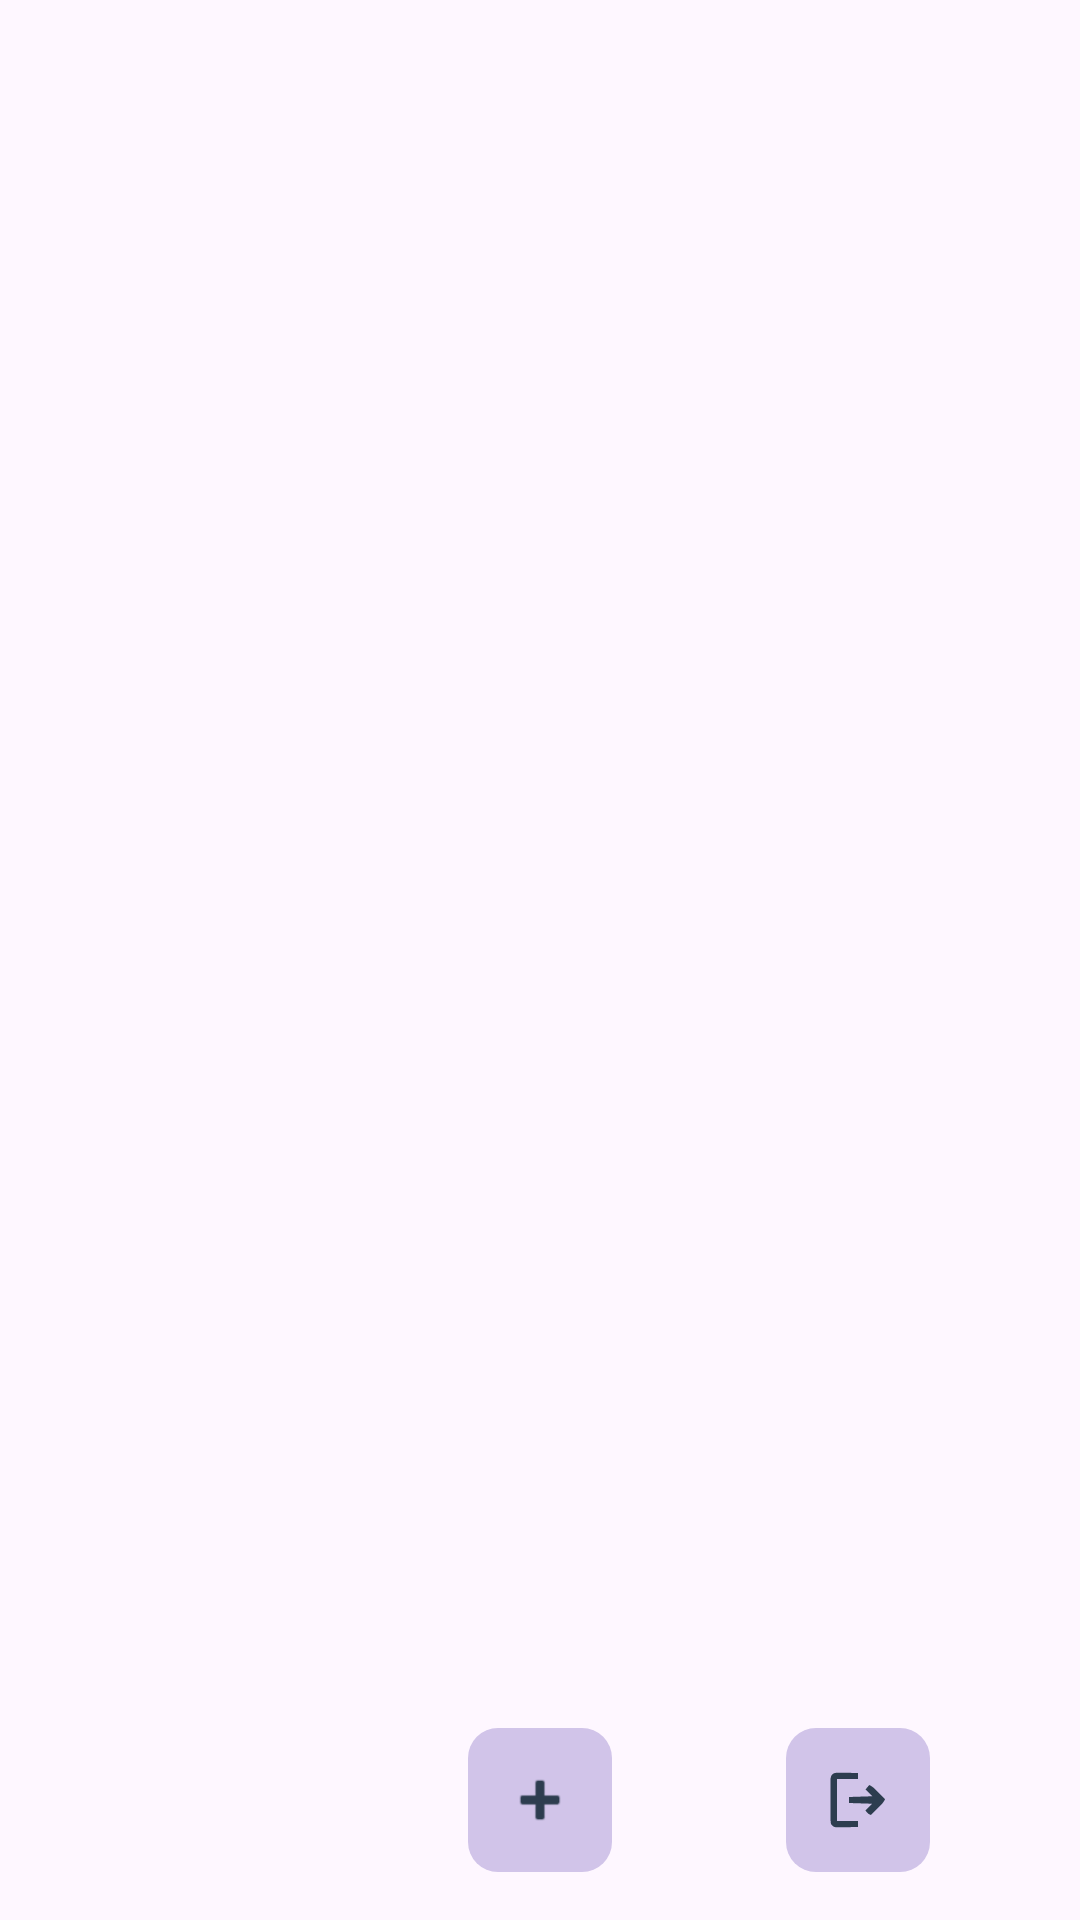

Locate icon controls on the screen. Image size 1080w x 1920h, boxes as (x1, y1, x2, y2).
Add Story Icon: (468, 1728, 612, 1872)
